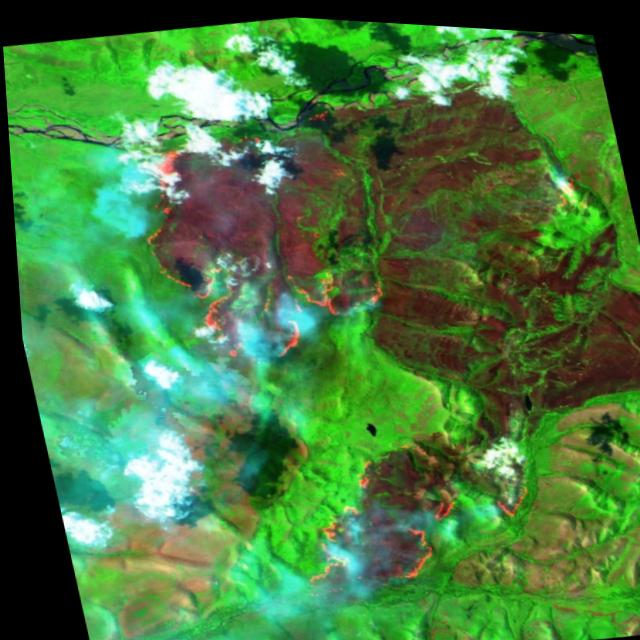fire: (107, 84, 401, 386), (253, 408, 557, 619), (533, 156, 594, 218)
